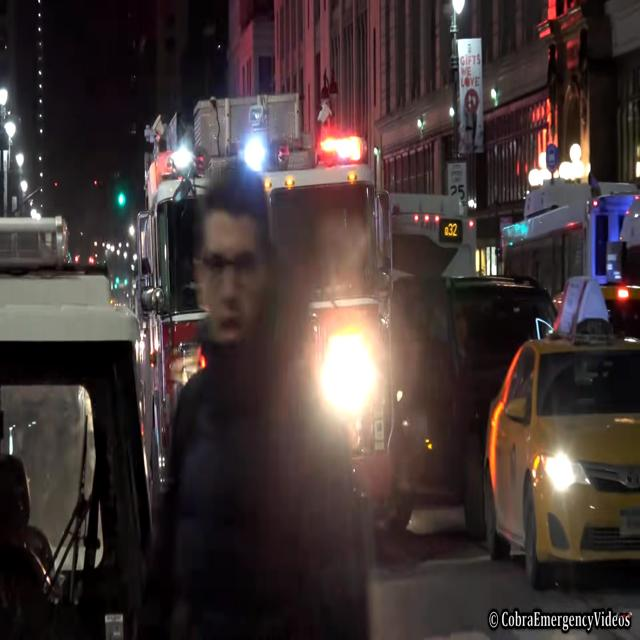emergency-vehicles: (125, 91, 432, 547)
